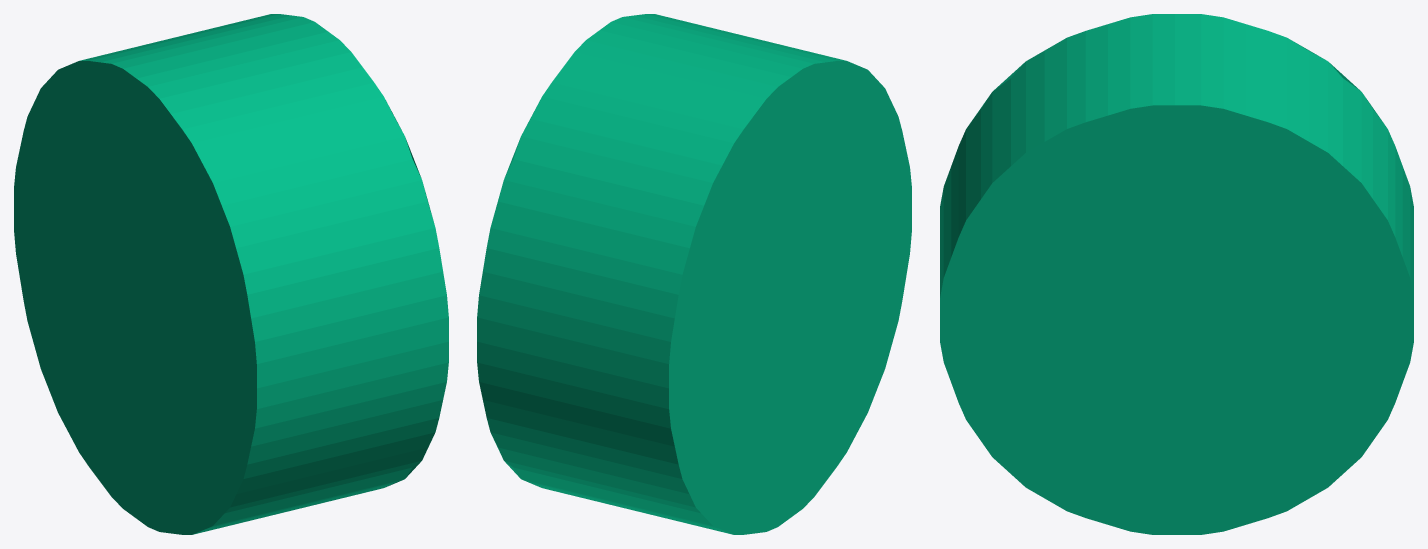
3 renders of one model, left to right at view 1: azimuth 30°, elevation 25°; view 2: azimuth 150°, elevation 25°; view 3: azimuth 270°, elevation 25°, orthographic. The views are drawn at different scales.
Size of the model in its own units: 0.0769 by 0.1683 by 0.1683.
